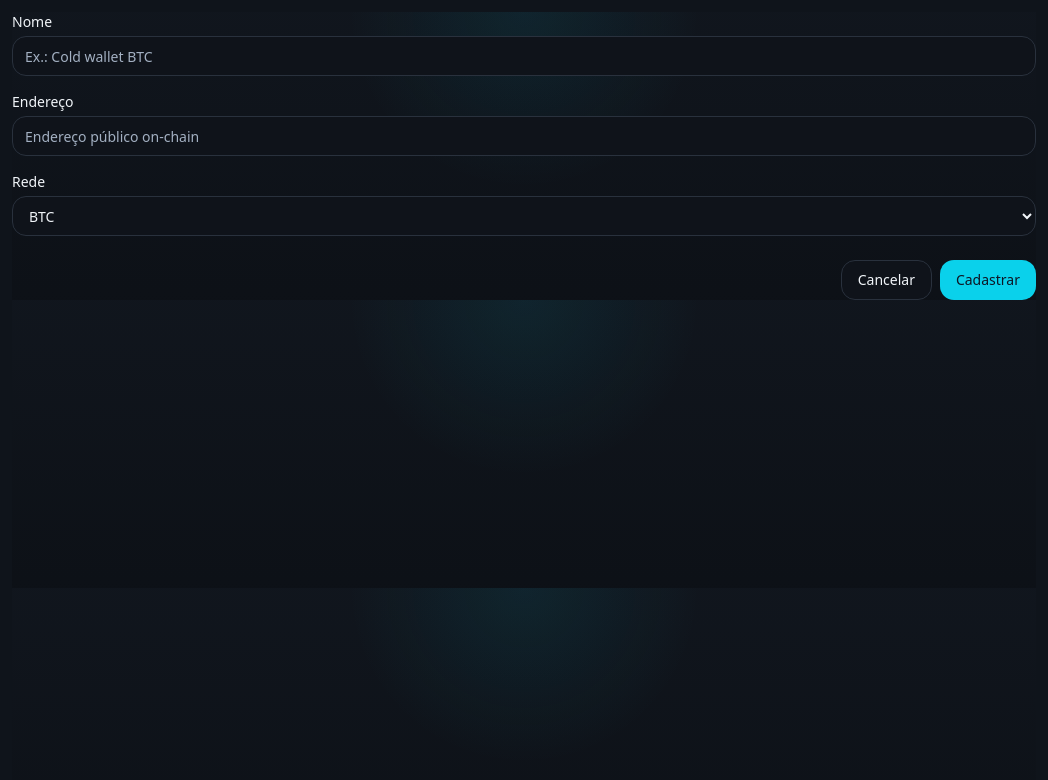
WalletForm › traduz WALLET_ALREADY_EXISTS em mensagem de duplicidade
The image size is (1048, 780).
Type "Cold wallet BTC" into the field labelled "Nome" at (524, 56), box left=12, top=36, right=1036, bottom=76
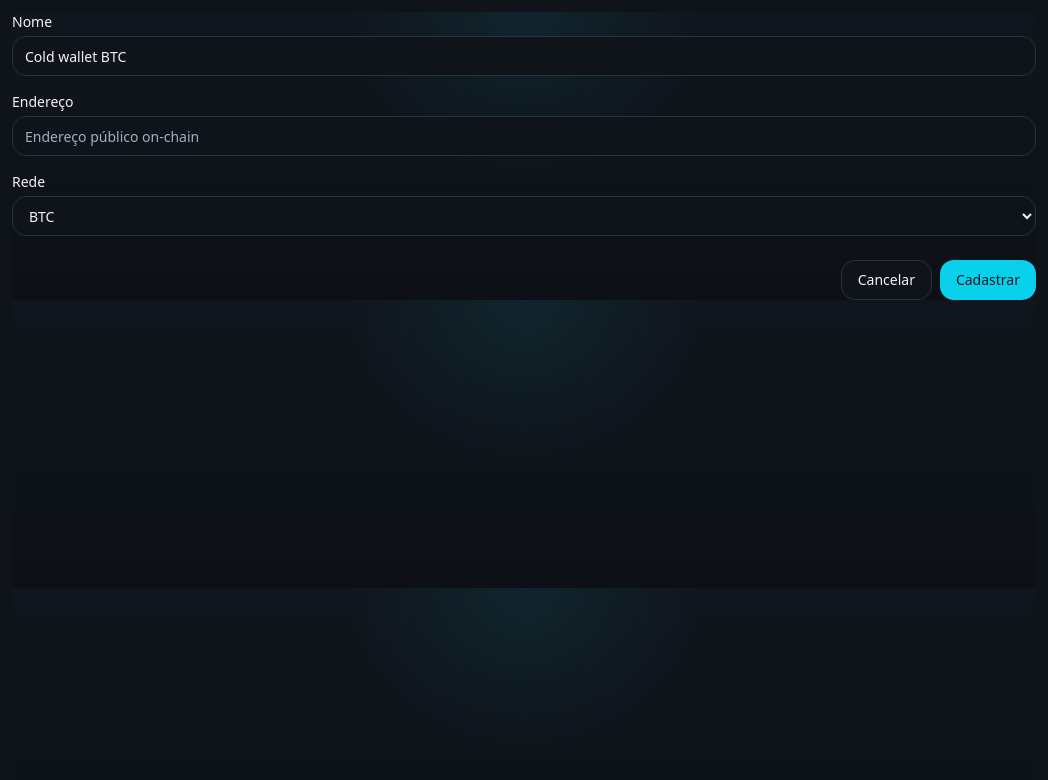
Type "bc1qabcdef0123456789fedcba9876543210" into the field labelled "Endereço" at (524, 136), box left=12, top=116, right=1036, bottom=156
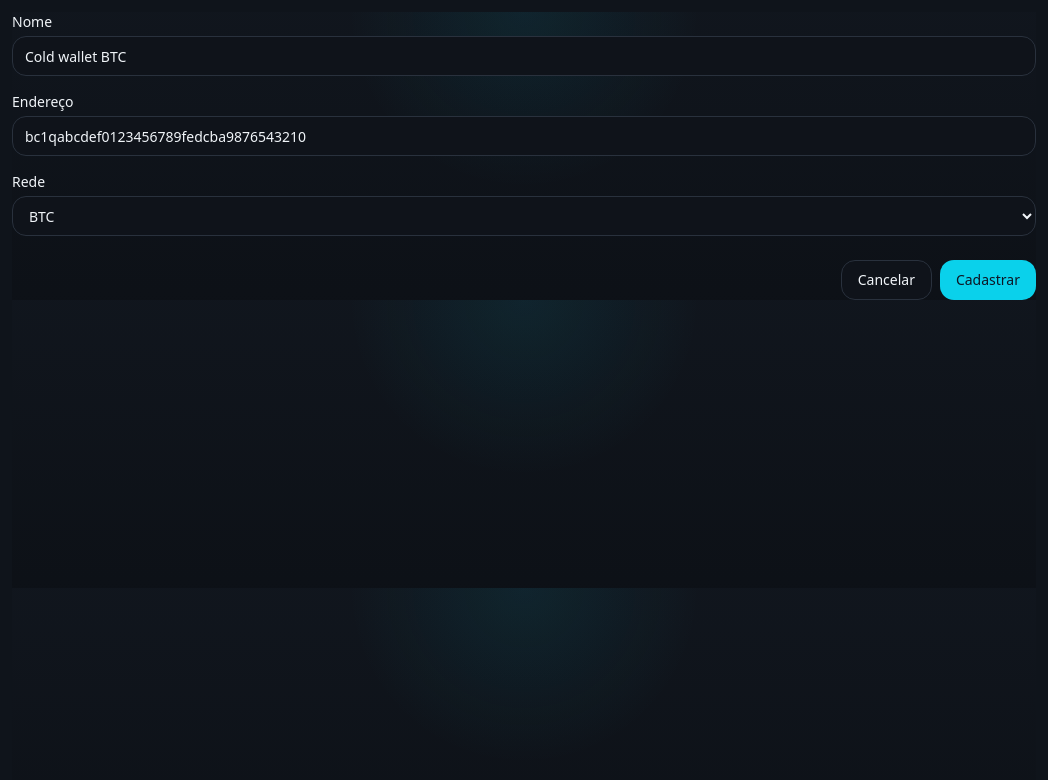
Click the button "Cadastrar" at (988, 280), box left=940, top=260, right=1036, bottom=300
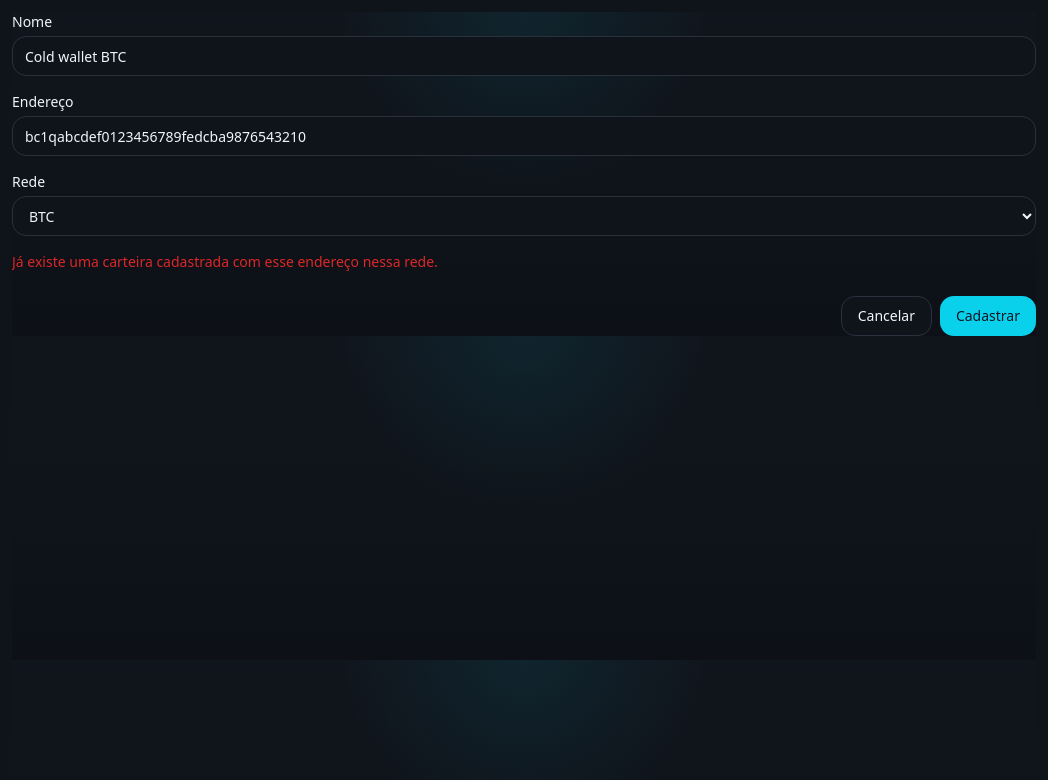
Check: the text "Já existe uma carteira cadastrada com esse endereço nessa rede." is shown, box left=12, top=252, right=438, bottom=271
